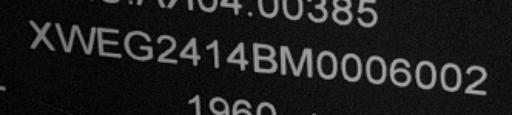letter: (52, 19, 96, 54), (278, 43, 316, 82), (122, 25, 154, 62), (462, 62, 492, 97), (28, 16, 56, 53), (222, 38, 250, 73), (96, 24, 122, 61), (252, 39, 278, 76), (339, 49, 365, 86), (388, 53, 414, 90), (412, 56, 438, 91), (154, 31, 178, 68), (177, 33, 201, 70), (438, 61, 464, 94), (364, 52, 388, 87), (314, 49, 338, 82), (203, 34, 221, 71)
